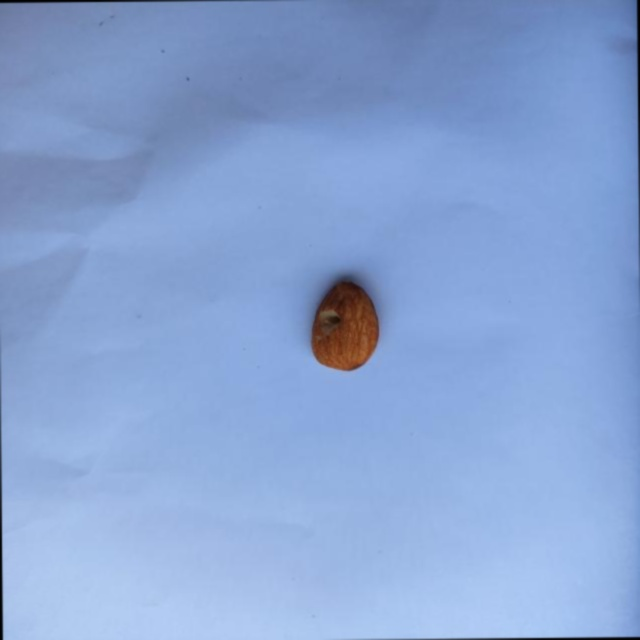grade3: (306, 276, 381, 375)
